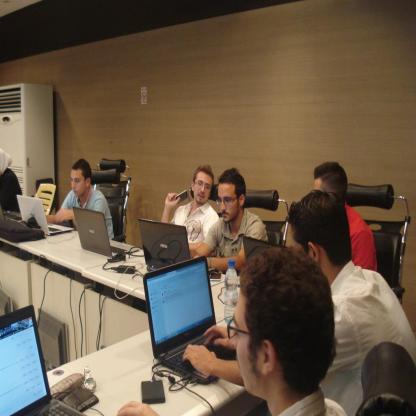board: (141, 256, 238, 386), (0, 296, 55, 416), (72, 206, 140, 259), (138, 219, 193, 273), (16, 194, 74, 238), (242, 236, 288, 268), (224, 260, 238, 322), (0, 206, 23, 224)
